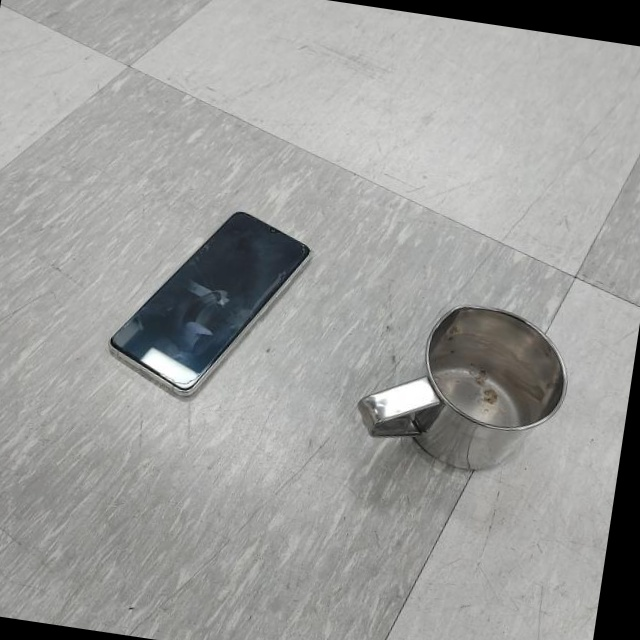cup: (350, 287, 577, 484)
phone: (96, 189, 318, 415)
